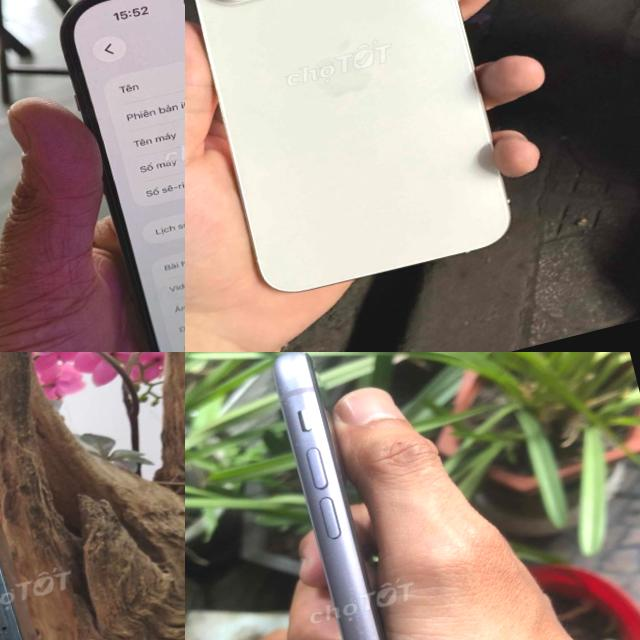scratch: (321, 547, 436, 640), (271, 359, 338, 476)
